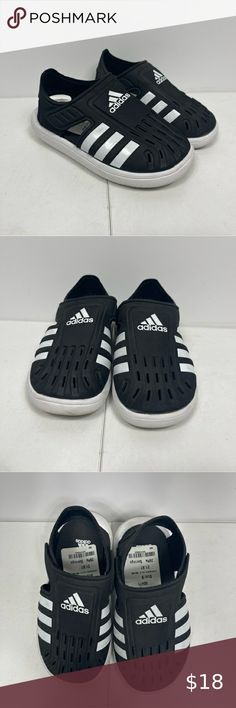adidas Originale: (51, 585, 98, 627), (126, 598, 180, 634), (132, 304, 176, 340), (99, 80, 140, 118), (63, 299, 98, 330)
